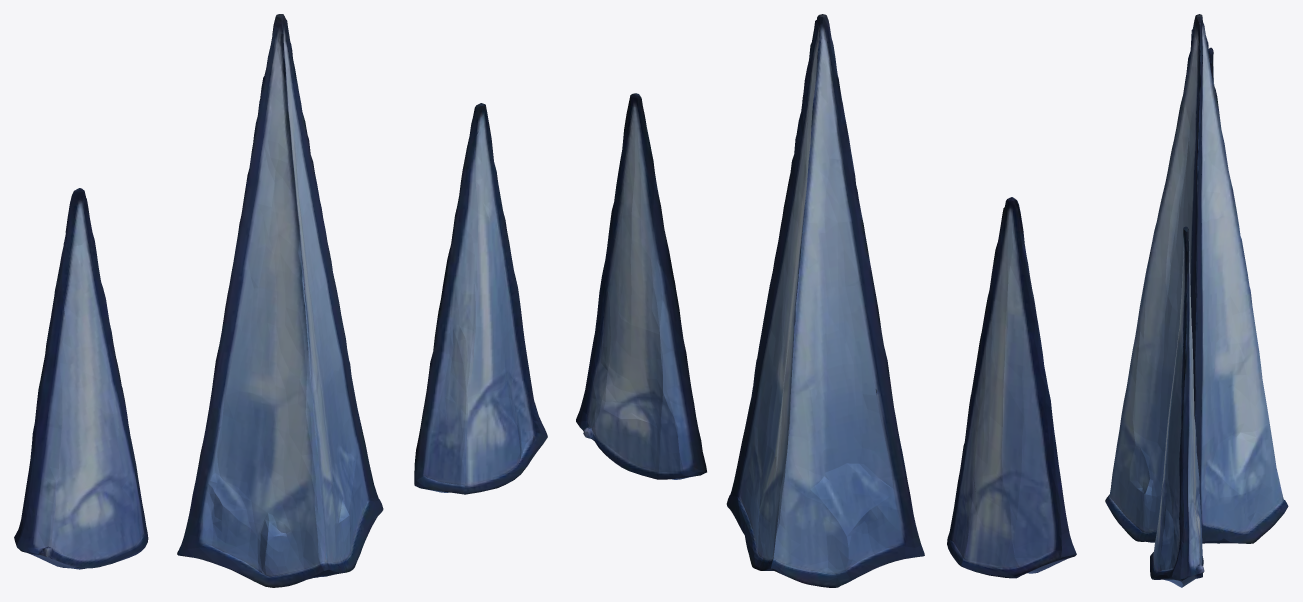
The model's file is spikey.glb.
3 renders of one model, left to right at view 1: azimuth 30°, elevation 25°; view 2: azimuth 150°, elevation 25°; view 3: azimuth 270°, elevation 25°, orthographic. The views are drawn at different scales.
Visible parts, largest first — view 1: world.001; view 2: world.001; view 3: world.001.
Part boxes in pixels (x1=…): world.001: x1=14, y1=14, x2=547, y2=587; world.001: x1=576, y1=14, x2=1076, y2=587; world.001: x1=1105, y1=14, x2=1288, y2=587.
Bounding box in the file's own units: 0.9947 × 0.9999 × 0.3252.
Materials: 1 (1 with a texture image).
